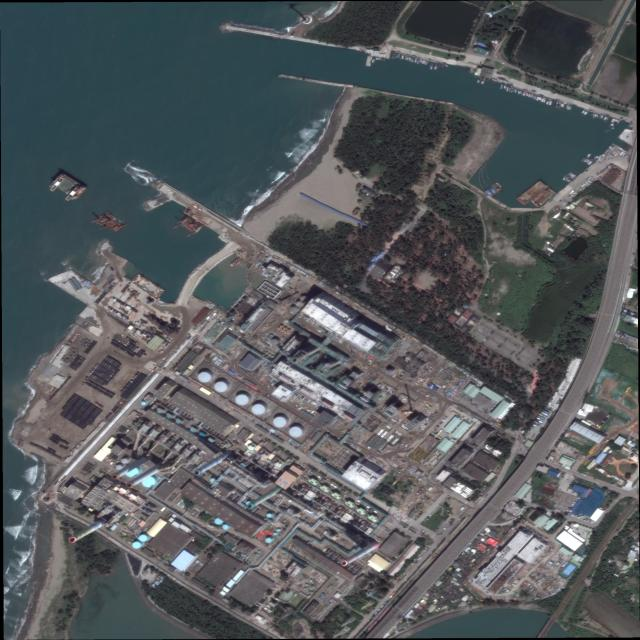ship: (131, 273, 166, 299), (515, 180, 549, 206), (530, 187, 557, 208)
storage-tank: (235, 394, 249, 406), (273, 416, 287, 428), (198, 372, 212, 383), (289, 427, 303, 438), (252, 404, 265, 415), (214, 382, 227, 392), (132, 542, 141, 549), (139, 535, 147, 542), (270, 339, 278, 345), (223, 524, 229, 530), (122, 458, 128, 464), (265, 538, 272, 543), (116, 465, 122, 470), (267, 514, 272, 518), (276, 529, 281, 533), (274, 533, 277, 536)
